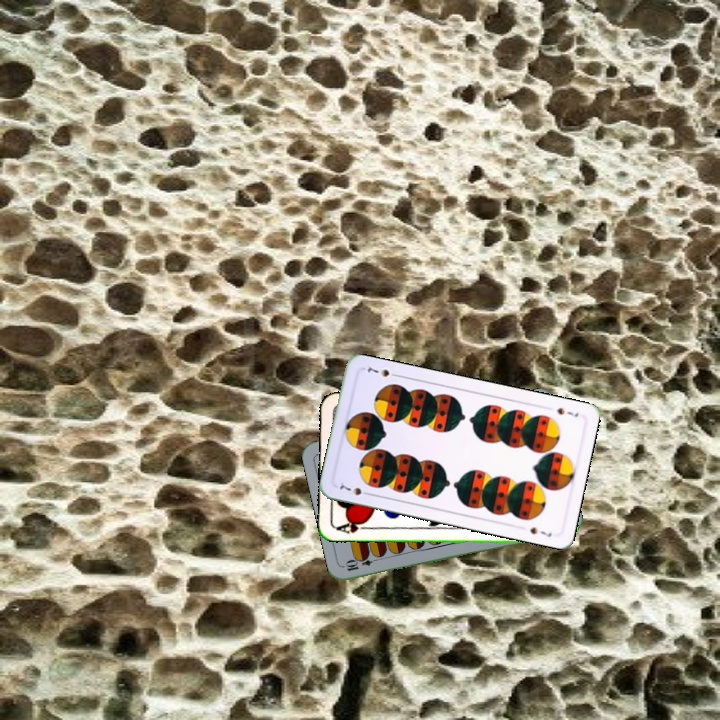E10: (342, 553, 382, 574)
HA: (333, 517, 373, 536)
S7: (335, 478, 374, 498), (553, 404, 581, 419)
